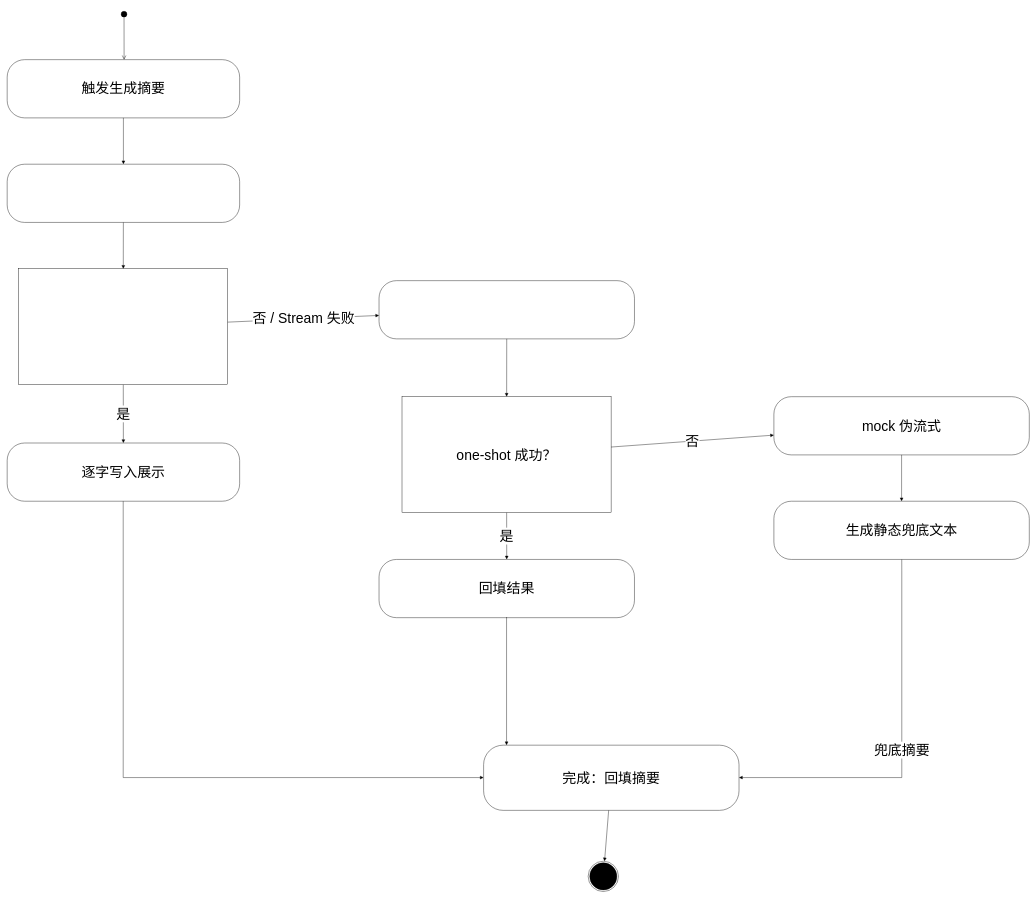
Image size: 1036x899. Some labels were removed from this diagram. The shapes that lost their labels are listed below. From the top down, each one's box as (x1, y1, x2, y2) in pixels, then its label:
(7, 164, 240, 222): SSE 流式接收
(18, 268, 228, 385): 首个 chunk 到达？
(379, 280, 634, 339): 回退 one-shot 生成
